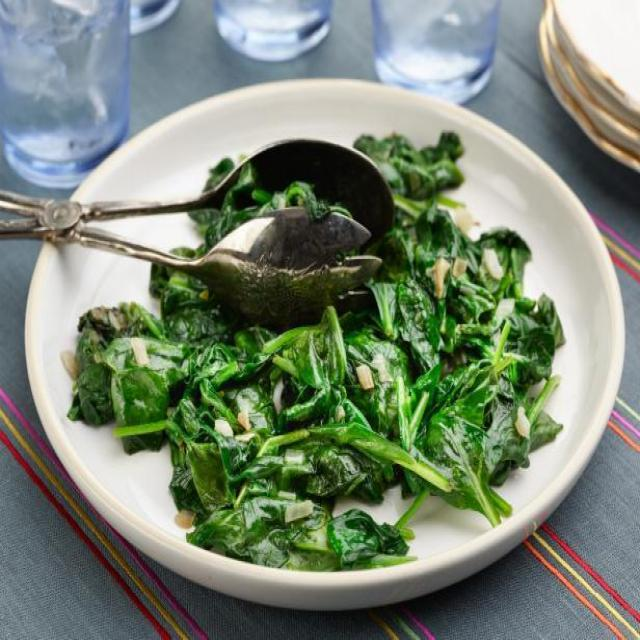Spinach: (49, 124, 583, 572)
